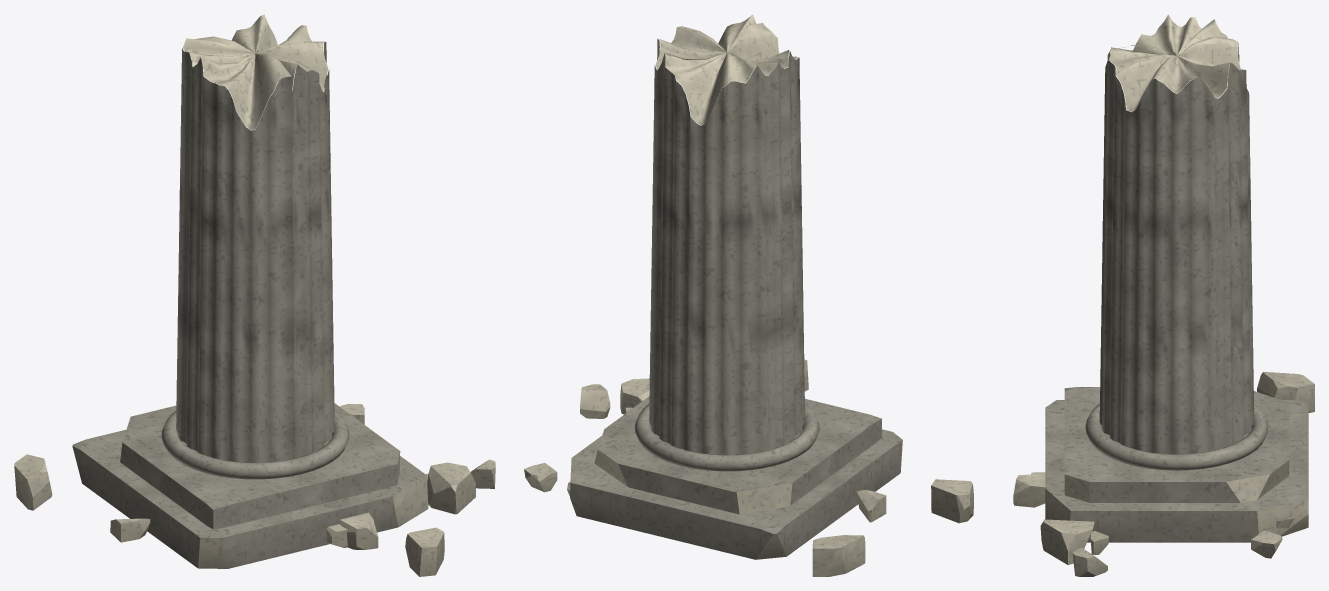
3 views of the same model, side by side, from view 1: azimuth 30°, elevation 25°; view 2: azimuth 150°, elevation 25°; view 3: azimuth 270°, elevation 25° (orthographic). The views are drawn at different scales.
Visible parts, largest first — view 1: weathered mineral, fresh chipped mineral; view 2: weathered mineral, fresh chipped mineral; view 3: weathered mineral, fresh chipped mineral.
Part boxes in pixels (x1,y1,x2,y2): weathered mineral: [72, 42, 426, 568]; fresh chipped mineral: [14, 14, 495, 576]; weathered mineral: [567, 39, 902, 559]; fresh chipped mineral: [524, 14, 886, 576]; weathered mineral: [1045, 43, 1308, 542]; fresh chipped mineral: [931, 14, 1314, 576].
Bounding box in the file's own units: 1.1 × 1.27 × 0.9921.
2 materials, 2 textured.
